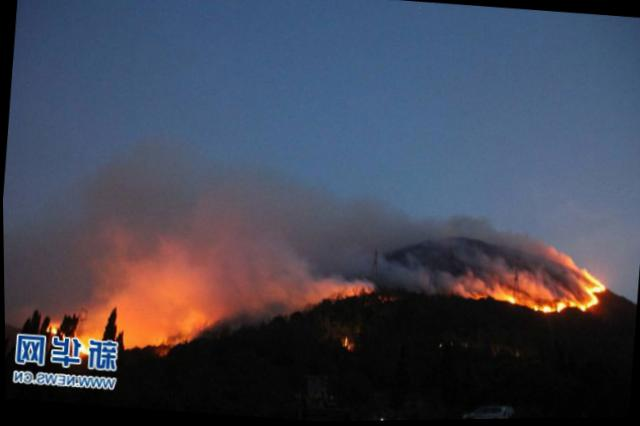fire: (47, 290, 219, 365), (457, 246, 608, 322), (310, 277, 375, 309)
